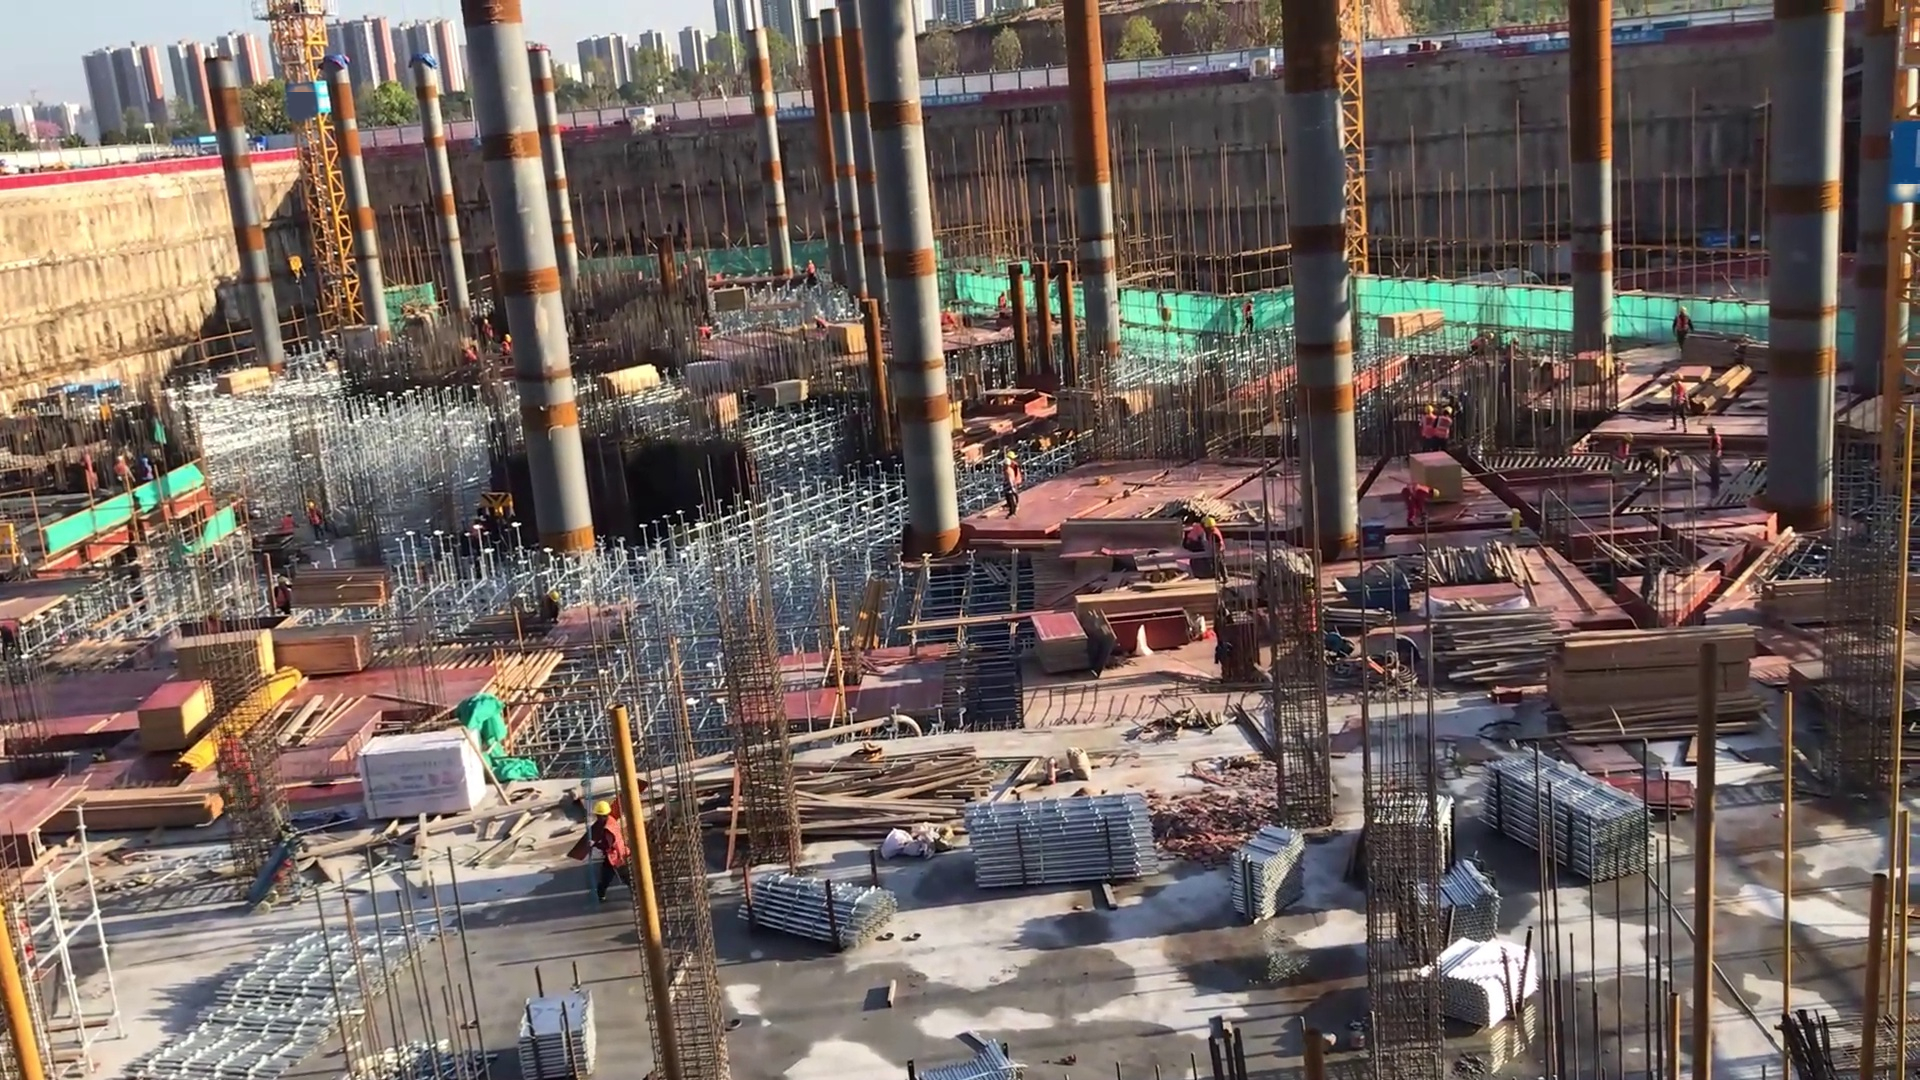board: (173, 628, 277, 702), (134, 673, 217, 755), (1597, 768, 1707, 823), (1033, 612, 1090, 679), (829, 323, 870, 356)
ebox: (1, 521, 40, 573)
helmet: (592, 797, 618, 821), (549, 588, 561, 606), (1205, 516, 1219, 531), (1423, 403, 1436, 415), (1008, 450, 1018, 464), (1677, 305, 1689, 316), (1430, 487, 1440, 498), (1443, 404, 1455, 414), (278, 575, 290, 585), (1673, 372, 1684, 383), (308, 501, 316, 509)
hook: (1336, 570, 1419, 624), (283, 250, 311, 291)
person: (585, 790, 632, 904), (1204, 512, 1233, 584), (1404, 481, 1438, 531), (1702, 424, 1727, 490), (1, 615, 34, 659), (1668, 370, 1692, 433), (109, 454, 136, 499), (272, 572, 294, 625), (1002, 458, 1019, 518), (1182, 516, 1208, 554), (1673, 304, 1694, 352), (304, 495, 324, 543), (1009, 457, 1028, 505), (1436, 401, 1454, 448), (1419, 401, 1436, 450), (481, 316, 499, 363), (138, 455, 160, 490), (1241, 292, 1258, 333), (498, 335, 515, 368), (806, 255, 817, 281)
scaffold: (1475, 745, 1665, 884), (963, 784, 1169, 906), (738, 870, 913, 957), (1412, 857, 1511, 976), (1231, 821, 1312, 945)
slogan: (1530, 29, 1657, 57), (915, 92, 998, 113), (777, 107, 820, 126)
vest: (598, 813, 631, 876), (1184, 520, 1206, 544), (1437, 415, 1453, 444), (1672, 380, 1688, 407), (1421, 414, 1437, 440), (1210, 530, 1225, 558), (275, 585, 292, 611), (1410, 483, 1431, 501), (310, 508, 322, 526)
wood: (1544, 616, 1758, 746), (800, 745, 1001, 839), (1748, 562, 1920, 637), (1433, 600, 1563, 693), (42, 785, 221, 844), (1072, 582, 1228, 632), (268, 618, 380, 683), (290, 559, 395, 617), (1374, 305, 1449, 347), (598, 357, 663, 405), (219, 359, 280, 409), (759, 376, 809, 414)
